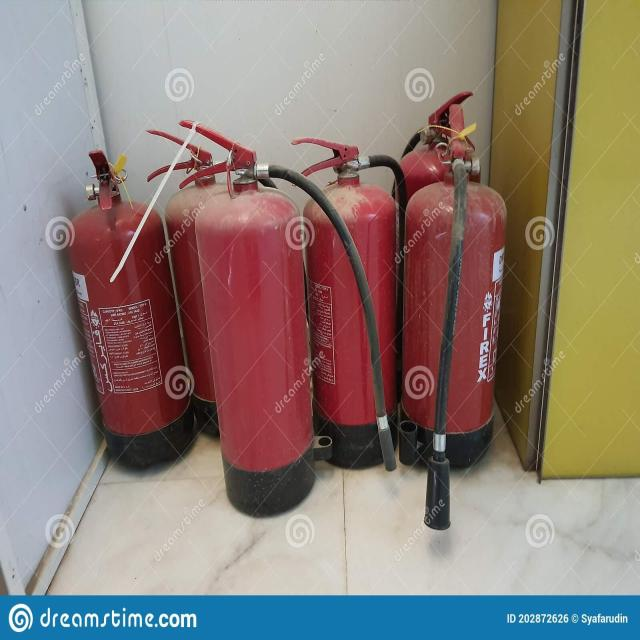fire_extinguisher: (176, 117, 400, 521), (394, 102, 512, 534), (140, 126, 290, 444), (59, 148, 199, 474), (285, 133, 411, 470), (382, 90, 478, 436)
